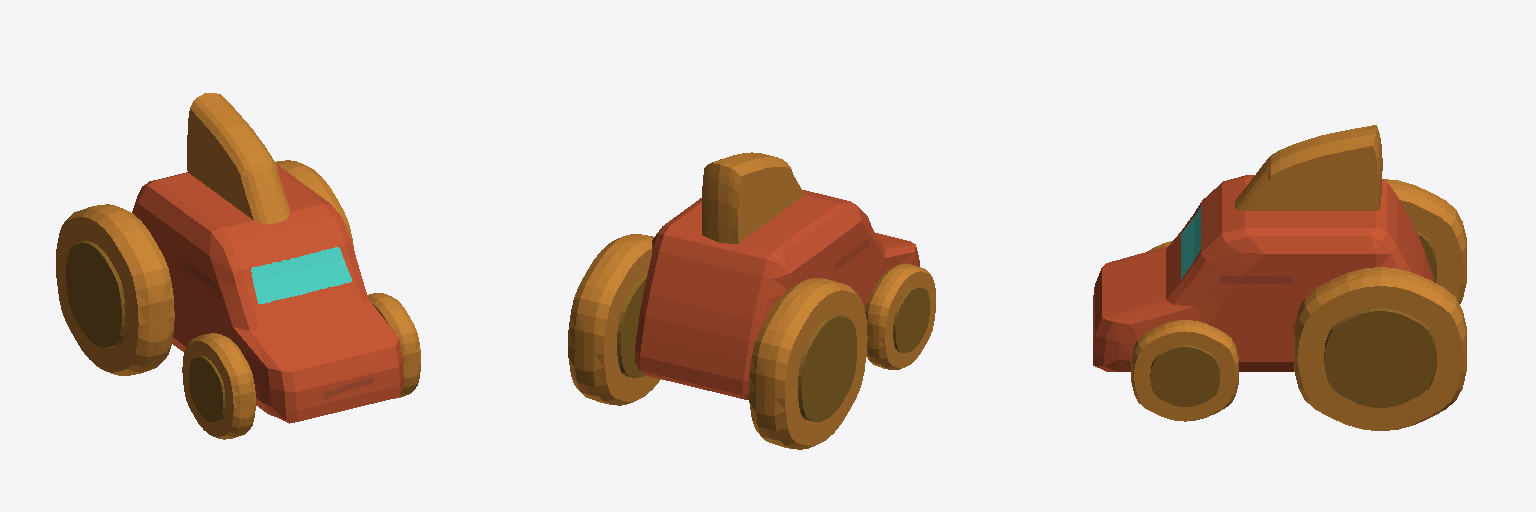
3 renders of one model, left to right at view 1: azimuth 30°, elevation 25°; view 2: azimuth 150°, elevation 25°; view 3: azimuth 270°, elevation 25°, orthographic.
Parts seen in each view (by area): view 1: 立方体.001; view 2: 立方体.001; view 3: 立方体.001.
Part boxes in pixels (x1,y1,x2,y2): 立方体.001: (56, 93, 420, 439); 立方体.001: (568, 152, 935, 449); 立方体.001: (1093, 125, 1466, 430).
Size of the model in its own units: 2.31 by 2.52 by 3.35.
1 materials, 1 textured.